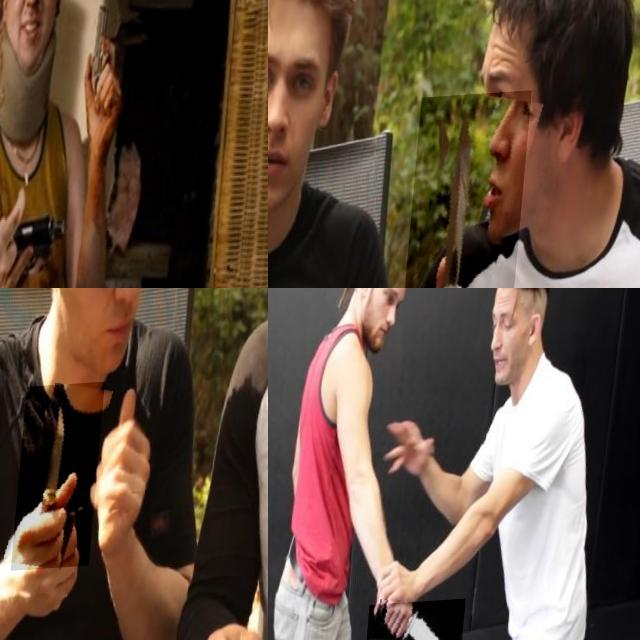-: (405, 96, 534, 288), (20, 384, 111, 572), (372, 603, 472, 640)
